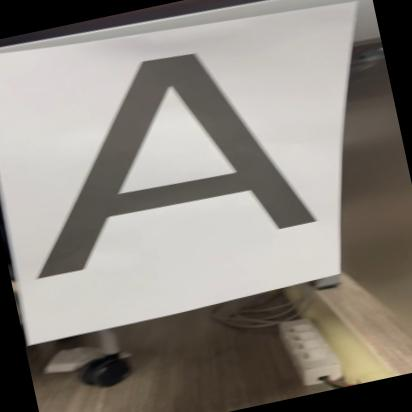seat: (0, 22, 320, 286)
